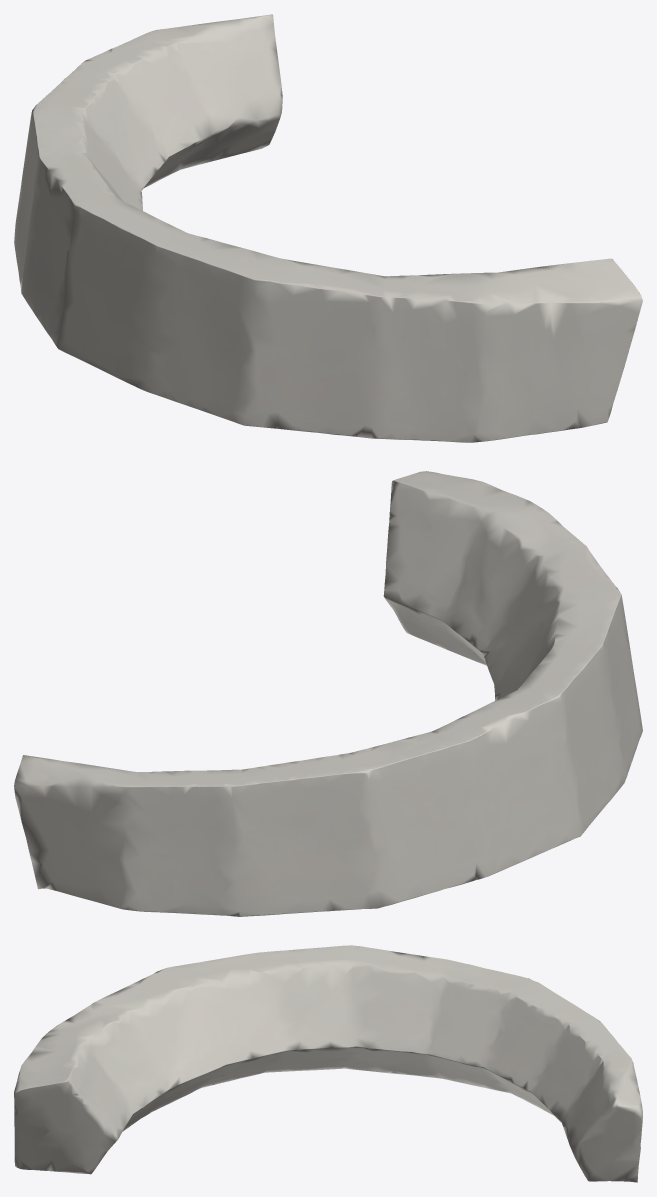
Rendered from tripo_convert_88ce8077-12e4-40ec-b48c-cdfe42c7391f.fbx.
The picture shows the model from 3 angles, top to bottom: view 1: azimuth 30°, elevation 25°; view 2: azimuth 150°, elevation 25°; view 3: azimuth 270°, elevation 25°; orthographic projection. The views are drawn at different scales.
Parts seen in each view (by area): view 1: tripo_node_88ce8077; view 2: tripo_node_88ce8077; view 3: tripo_node_88ce8077.
Boxes of the visible parts, x1=… form: tripo_node_88ce8077: x1=14, y1=14, x2=642, y2=442; tripo_node_88ce8077: x1=14, y1=471, x2=642, y2=916; tripo_node_88ce8077: x1=14, y1=945, x2=642, y2=1182.
Bounding box in the file's own units: 0.5496 × 0.1968 × 1.
Materials: 1 (1 with a texture image).
